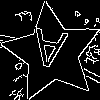A: (27, 28, 69, 78)
